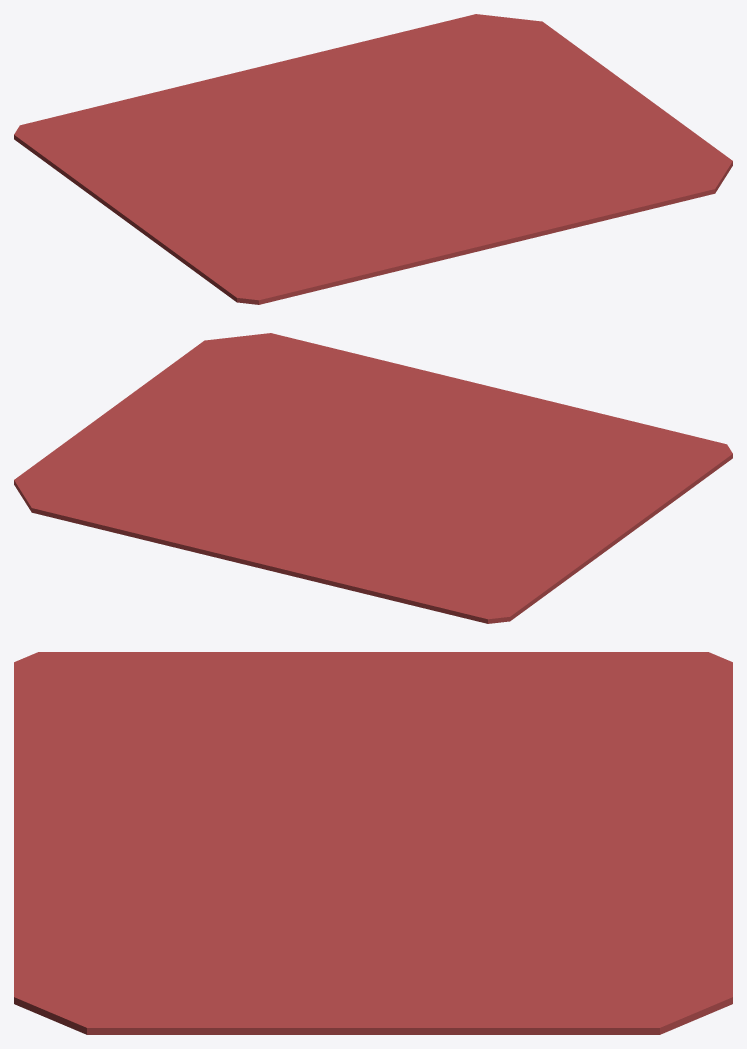
Rendered from top_plate.dae.
3 views of the same model, one above another, from view 1: azimuth 30°, elevation 25°; view 2: azimuth 150°, elevation 25°; view 3: azimuth 270°, elevation 25° (orthographic). The views are drawn at different scales.
Parts seen in each view (by area): view 1: Top_Plate; view 2: Top_Plate; view 3: Top_Plate.
Boxes of the visible parts, left/top/right/bottom form: Top_Plate: left=14, top=14, right=732, bottom=304; Top_Plate: left=14, top=333, right=732, bottom=623; Top_Plate: left=14, top=652, right=732, bottom=1034.
Bounding box in the file's own units: 0.73 × 0.59 × 0.00635.
